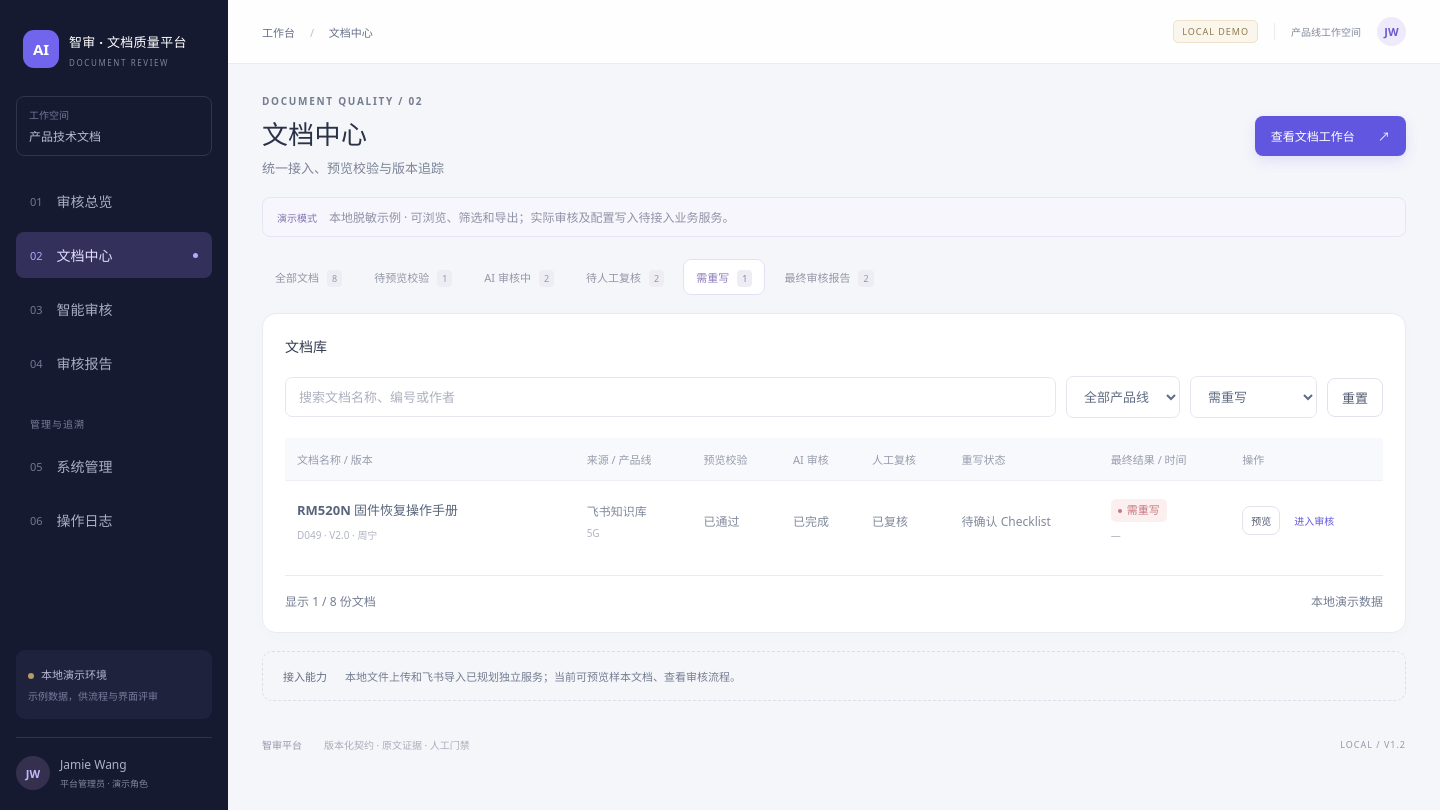
Test: local demonstration user journeys › filters by status and author as well as document name
The width and height of the screenshot is (1440, 810).
Check: the button "RM520N 固件恢复操作手册" is shown, box [297, 499, 458, 521]
Type "周宁" into the field labelled "搜索文档". click: [670, 397]
box: [285, 377, 1056, 417]
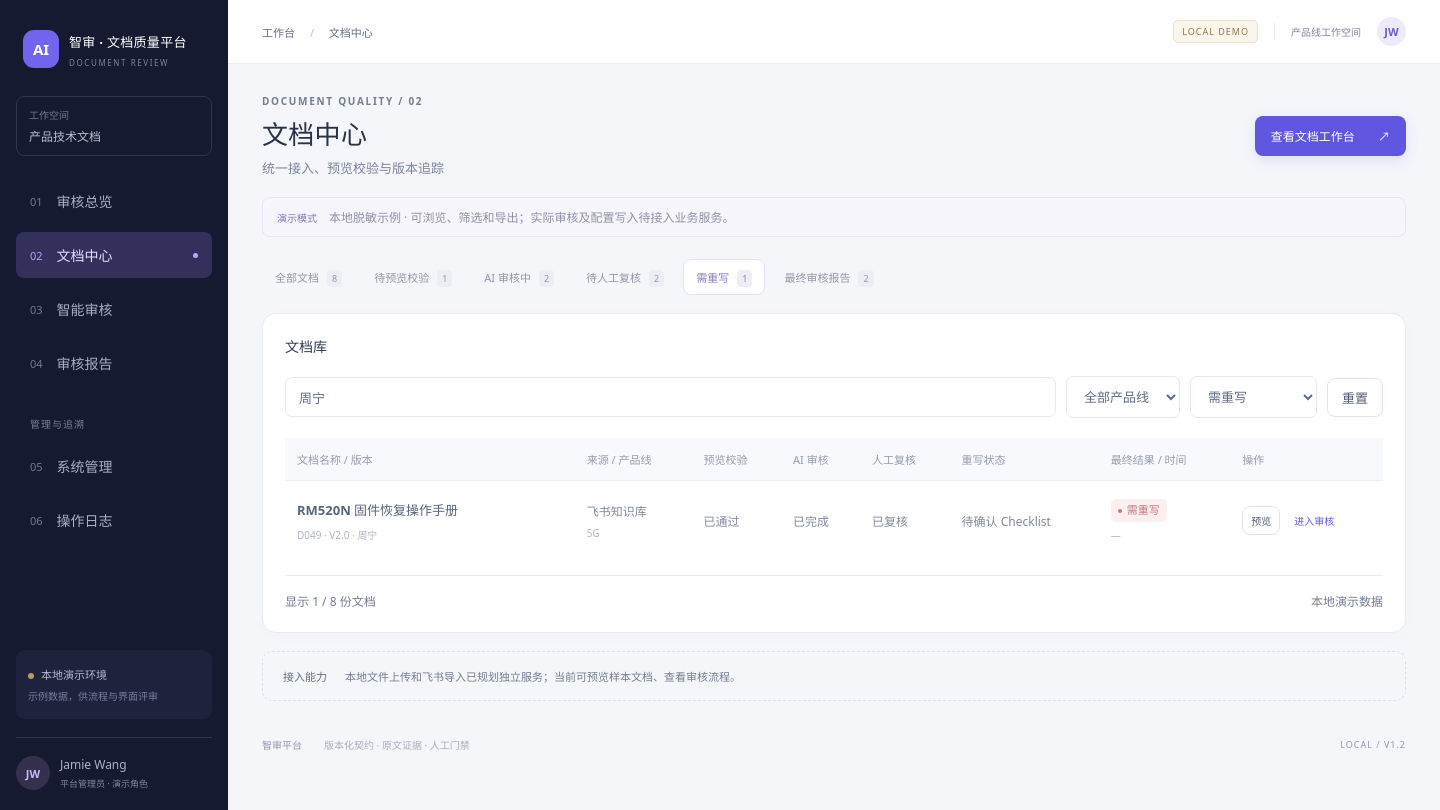
Check: the button "RM520N 固件恢复操作手册" is shown, box [297, 499, 458, 521]
Replace the text in the field named "搜索文档" with "不存在的文档". click: [670, 397]
box: [285, 377, 1056, 417]
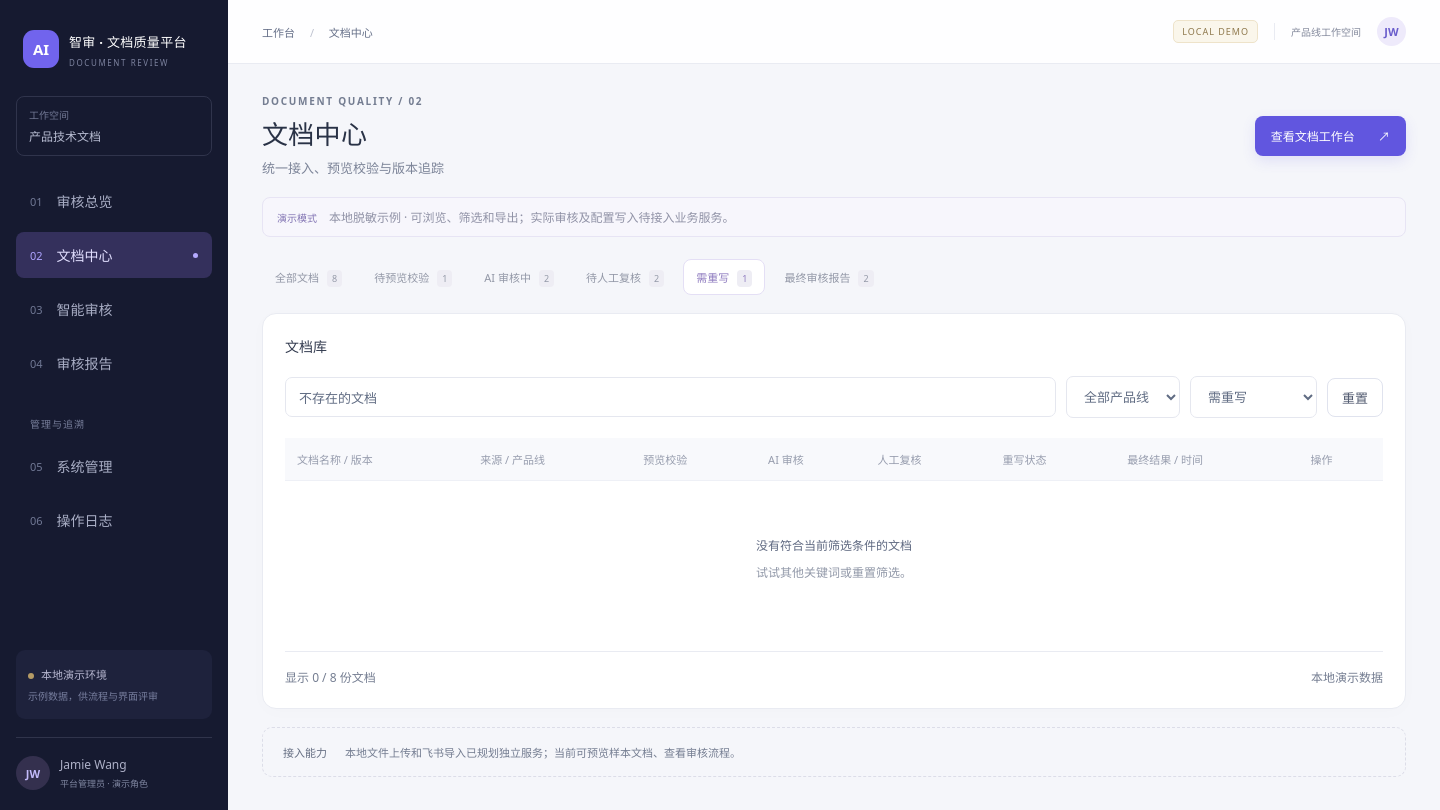
Check: the text "没有符合当前筛选条件的文档" is shown, box [756, 537, 912, 554]
